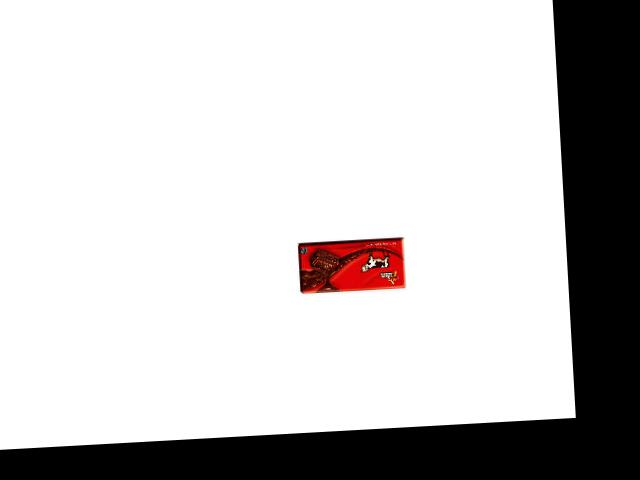chocolate: (294, 246, 396, 304)
